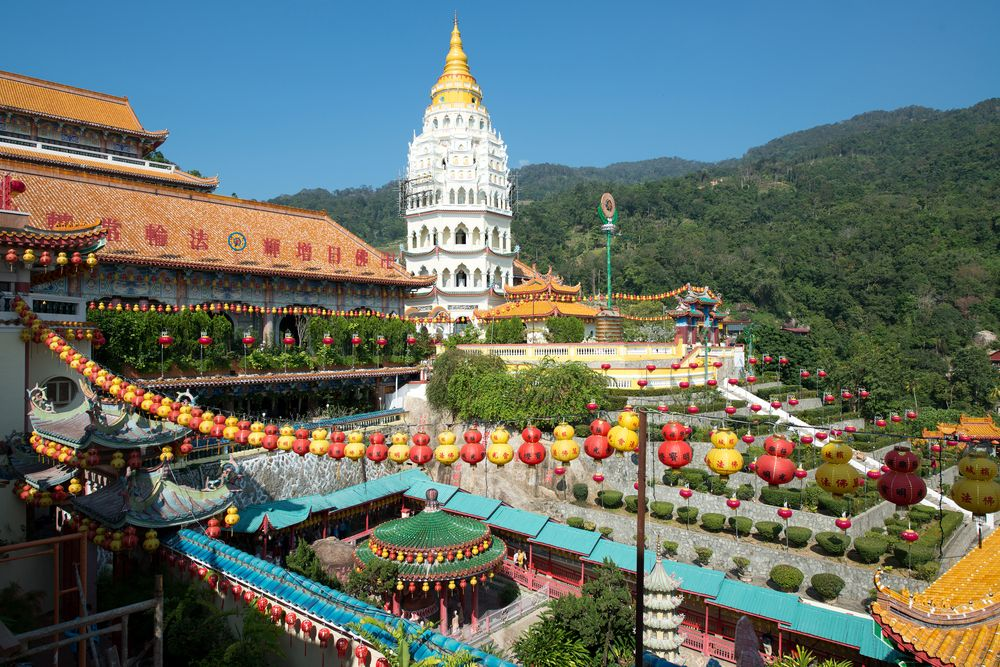Buddhist Temple: (383, 28, 526, 299)
